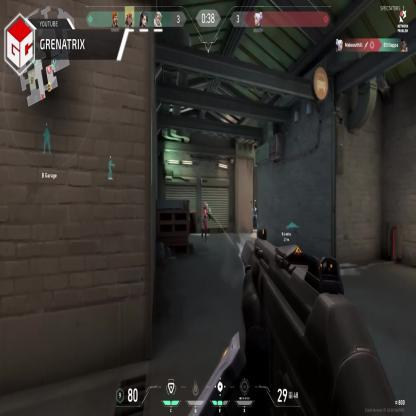enemy: (202, 203, 209, 239)
enemy_head: (206, 202, 209, 210)
